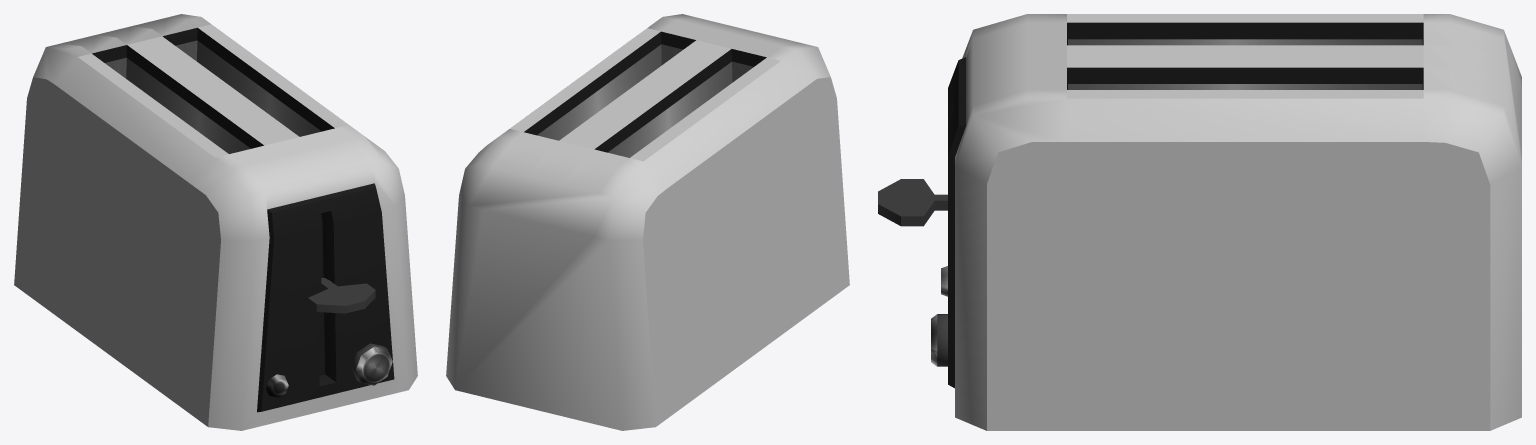
File: Toaster_02.FBX
3 renders of one model, left to right at view 1: azimuth 30°, elevation 25°; view 2: azimuth 150°, elevation 25°; view 3: azimuth 270°, elevation 25°, orthographic. The views are drawn at different scales.
Visible parts, largest first — view 1: Toaster; view 2: Toaster; view 3: Toaster.
Boxes of the visible parts, x1=… form: Toaster: x1=14, y1=14, x2=417, y2=430; Toaster: x1=446, y1=14, x2=849, y2=430; Toaster: x1=878, y1=14, x2=1521, y2=430.
Bounding box in the file's own units: 41.55 × 45 × 85.19.
